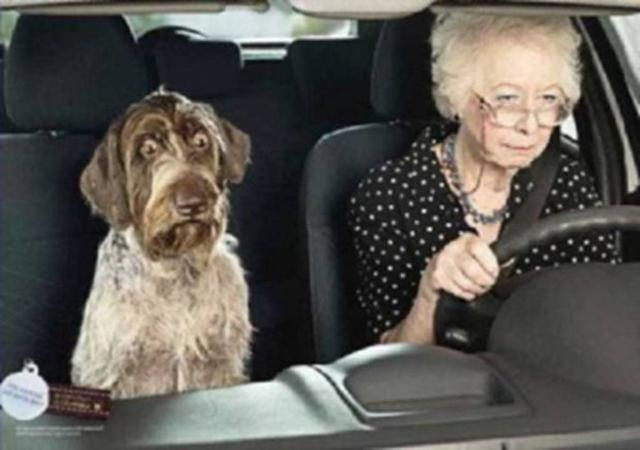SafeDriving: (490, 84, 526, 112), (532, 87, 567, 112)
Seatbelt: (500, 127, 560, 275)
